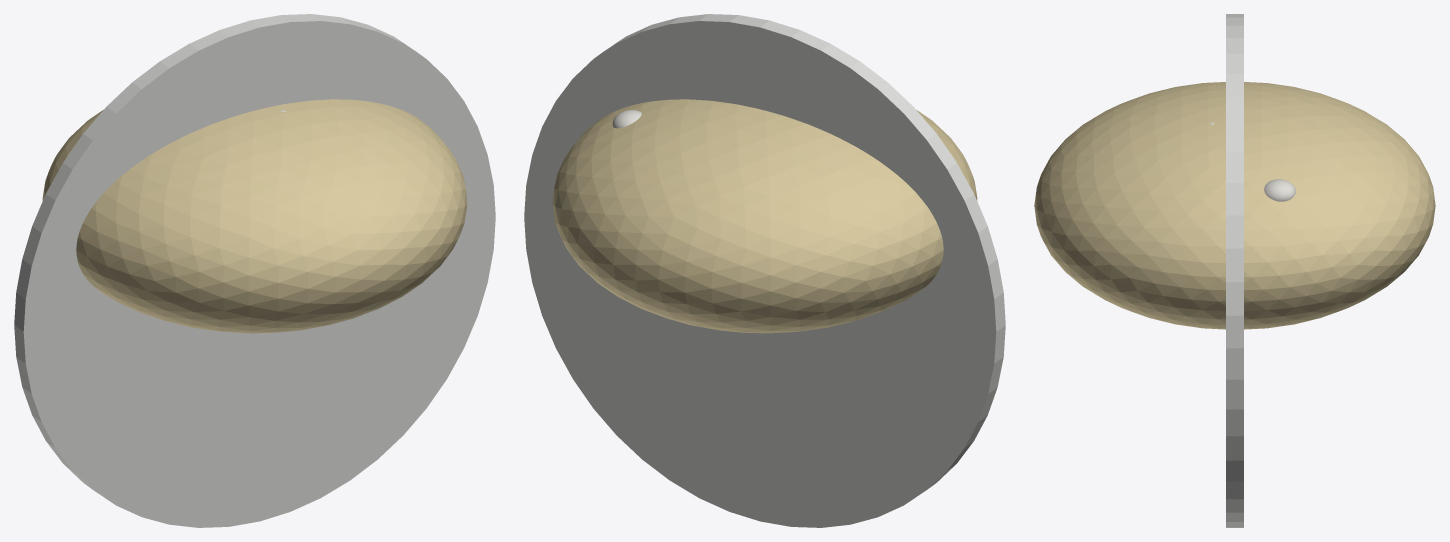
The model's file is pasta.glb.
3 renders of one model, left to right at view 1: azimuth 30°, elevation 25°; view 2: azimuth 150°, elevation 25°; view 3: azimuth 270°, elevation 25°, orthographic. The views are drawn at different scales.
Parts seen in each view (by area): view 1: geometry_0, geometry_1; view 2: geometry_0, geometry_1; view 3: geometry_1, geometry_0, geometry_4.
Part boxes in pixels (x1,y1,x2,y2): geometry_0: (14, 14, 495, 527); geometry_1: (42, 99, 467, 333); geometry_0: (524, 14, 1005, 527); geometry_1: (552, 99, 977, 333); geometry_1: (1034, 82, 1435, 329); geometry_0: (1226, 14, 1243, 527); geometry_4: (1264, 179, 1295, 201).
Bounding box in the file's own units: 2 × 2 × 1.56.
